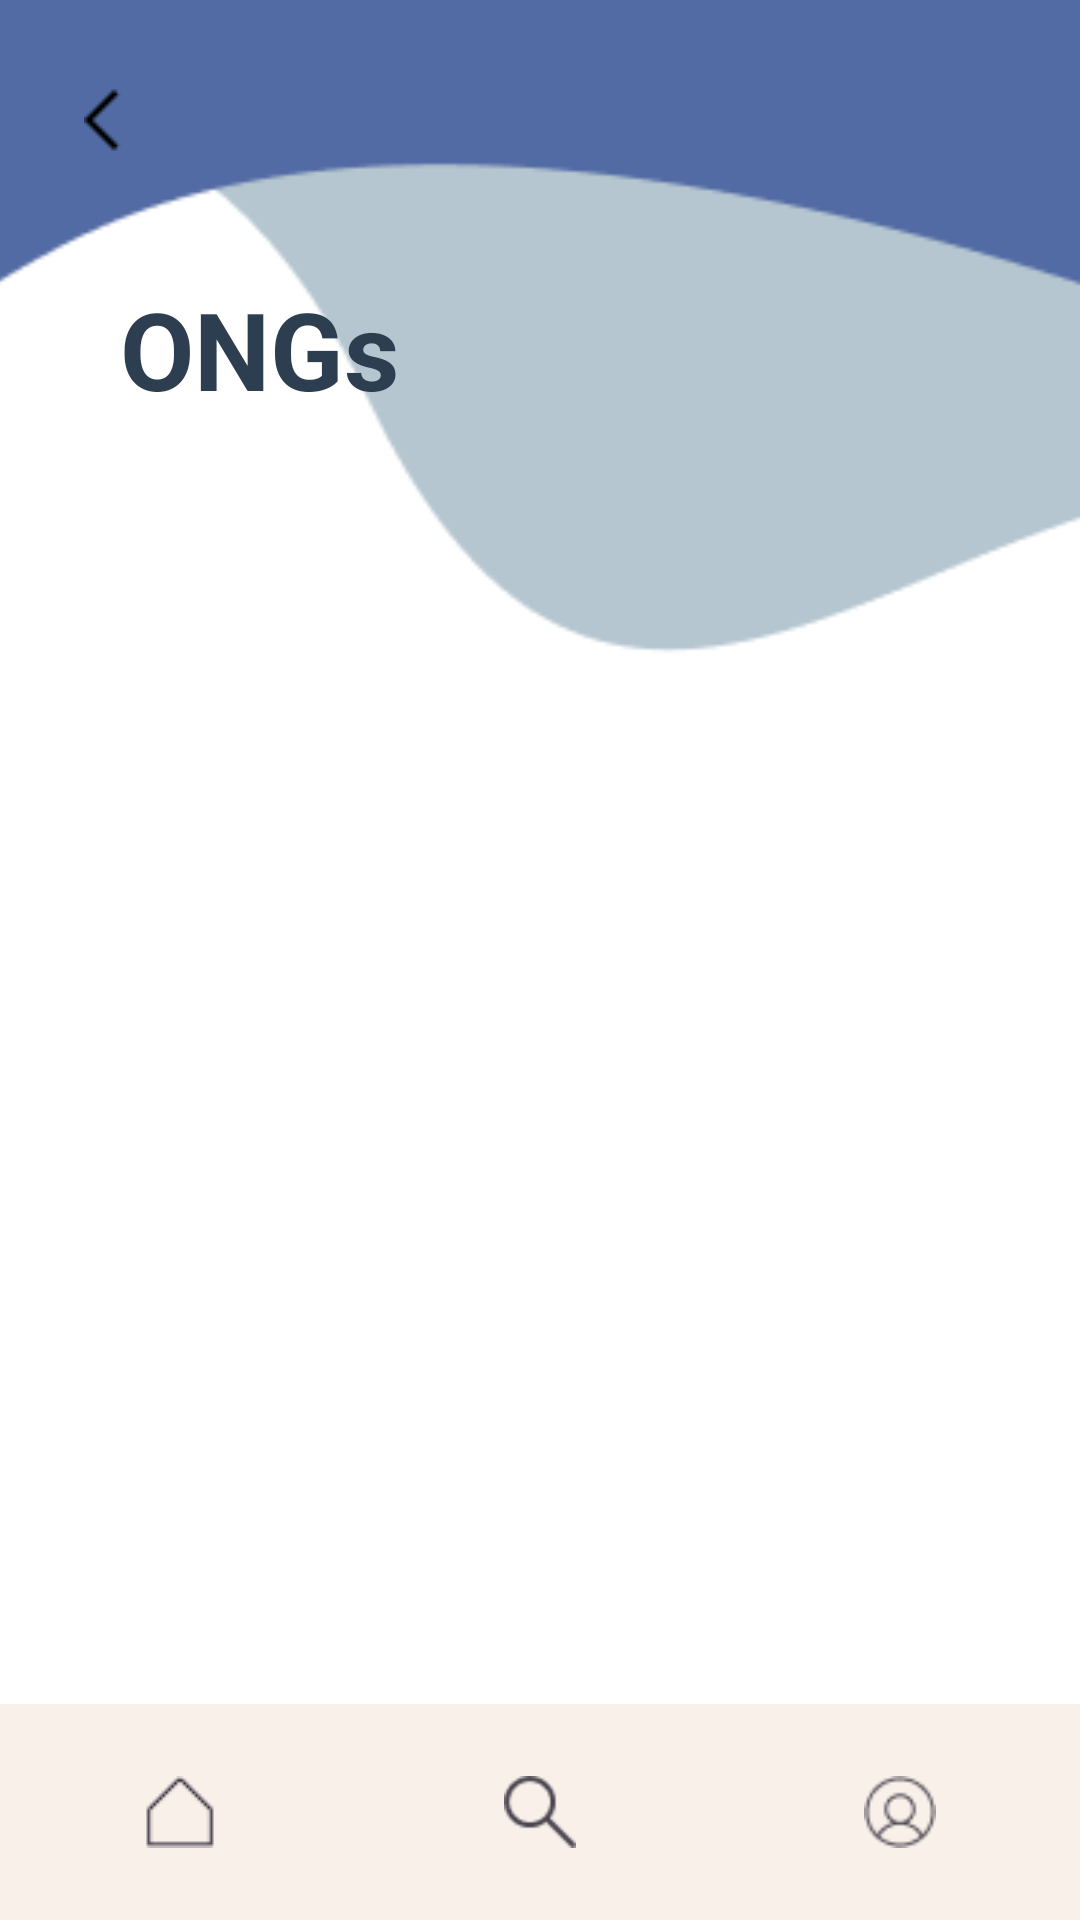

Icons on this 1080w x 1920h Android screen, each with the point to tap as point (x, y):
back arrow: point (101, 120)
